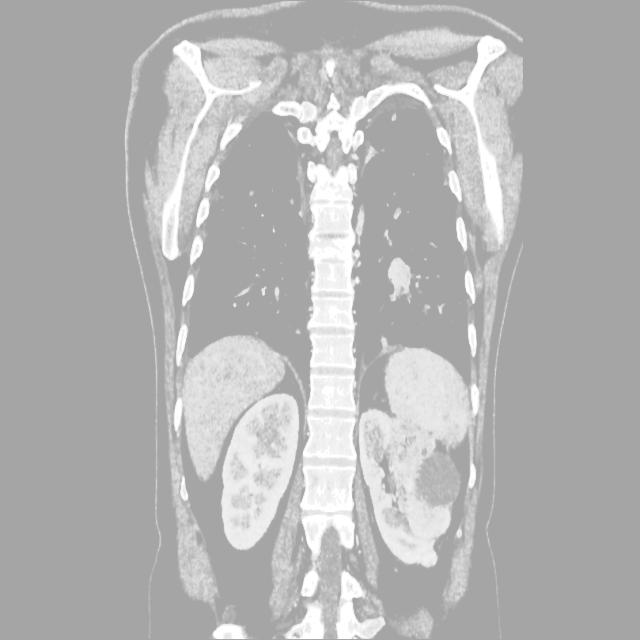TUMOR: (101, 295, 526, 494)
